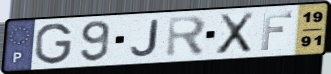9: (79, 20, 112, 63)
F: (258, 10, 294, 52)
G: (33, 22, 74, 66)
J: (128, 18, 160, 59)
R: (165, 14, 209, 59)
X: (214, 10, 256, 56)
